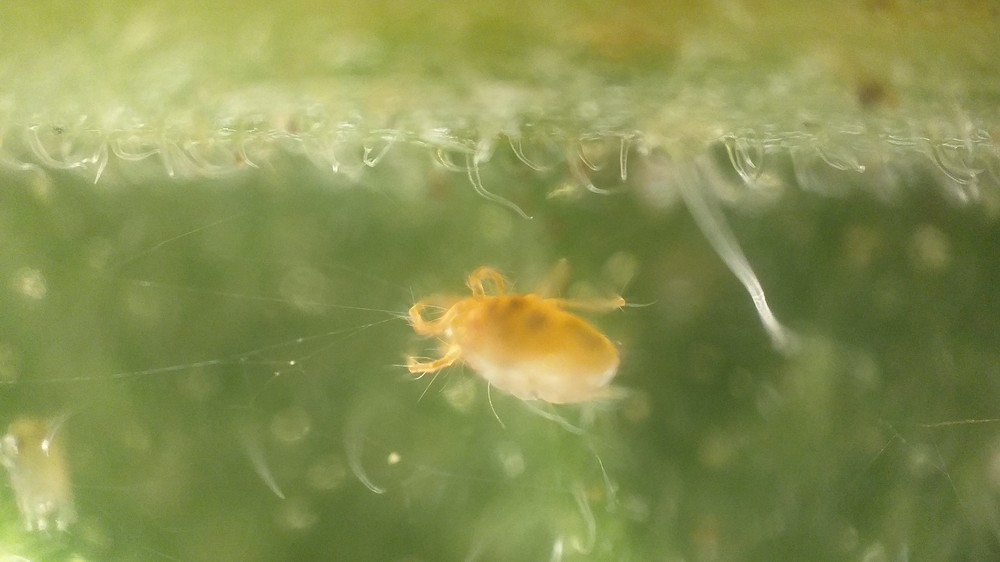Aracnido Rojo: (394, 247, 642, 440)
